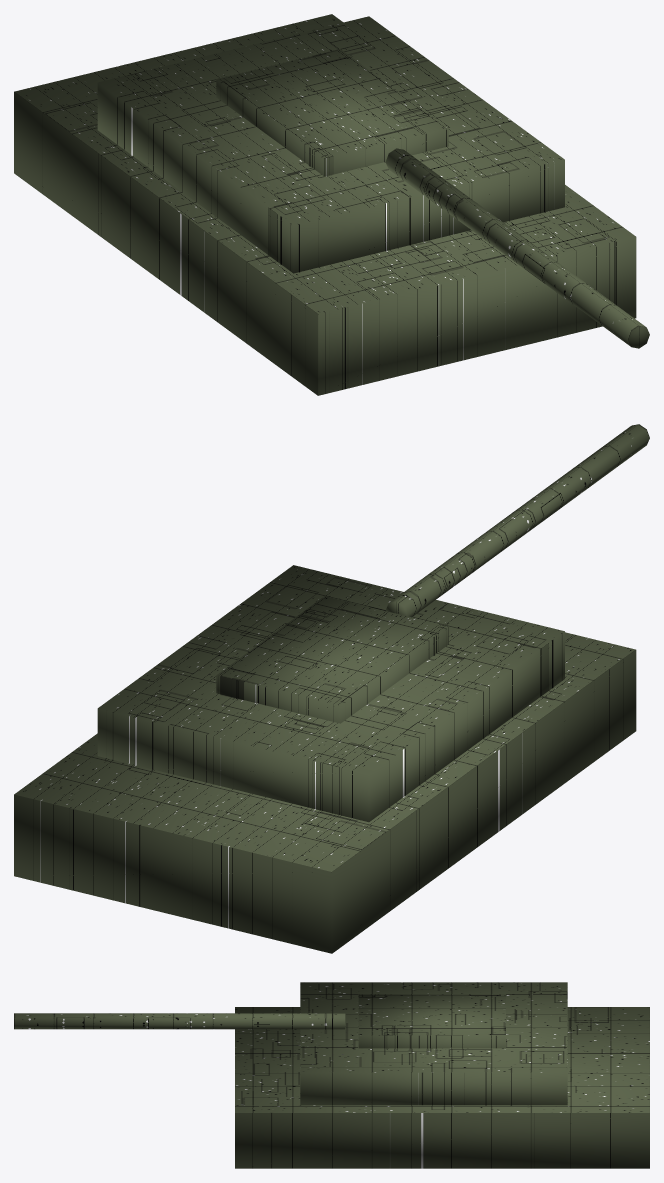
File: medium_tank_lod2.obj
3 renders of one model, top to bottom at view 1: azimuth 30°, elevation 25°; view 2: azimuth 150°, elevation 25°; view 3: azimuth 270°, elevation 25°, orthographic. The views are drawn at different scales.
Parts seen in each view (by area): view 1: LOD2_Static; view 2: LOD2_Static; view 3: LOD2_Static.
Part boxes in pixels (bbox=[...]): LOD2_Static: bbox=[14, 14, 649, 395]; LOD2_Static: bbox=[14, 424, 649, 953]; LOD2_Static: bbox=[14, 982, 649, 1168].
Size of the model in its own units: 2.94 by 1.32 by 7.45.
